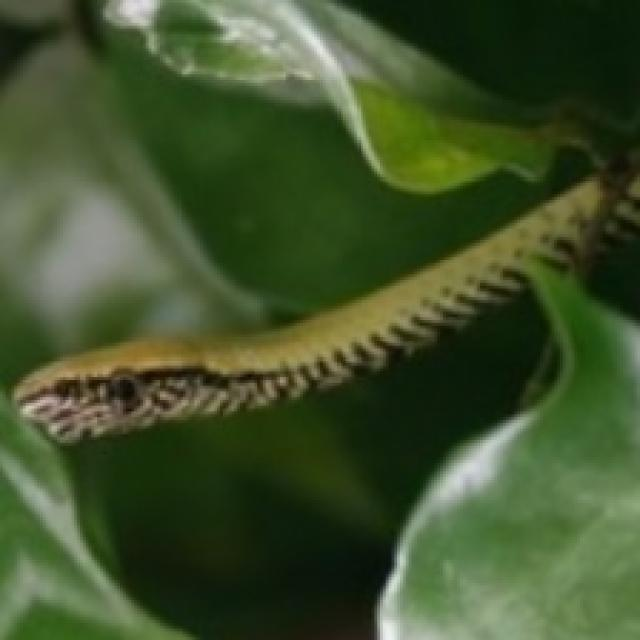paradise tree snake: (0, 0, 637, 380), (14, 174, 637, 440), (17, 343, 294, 417)
